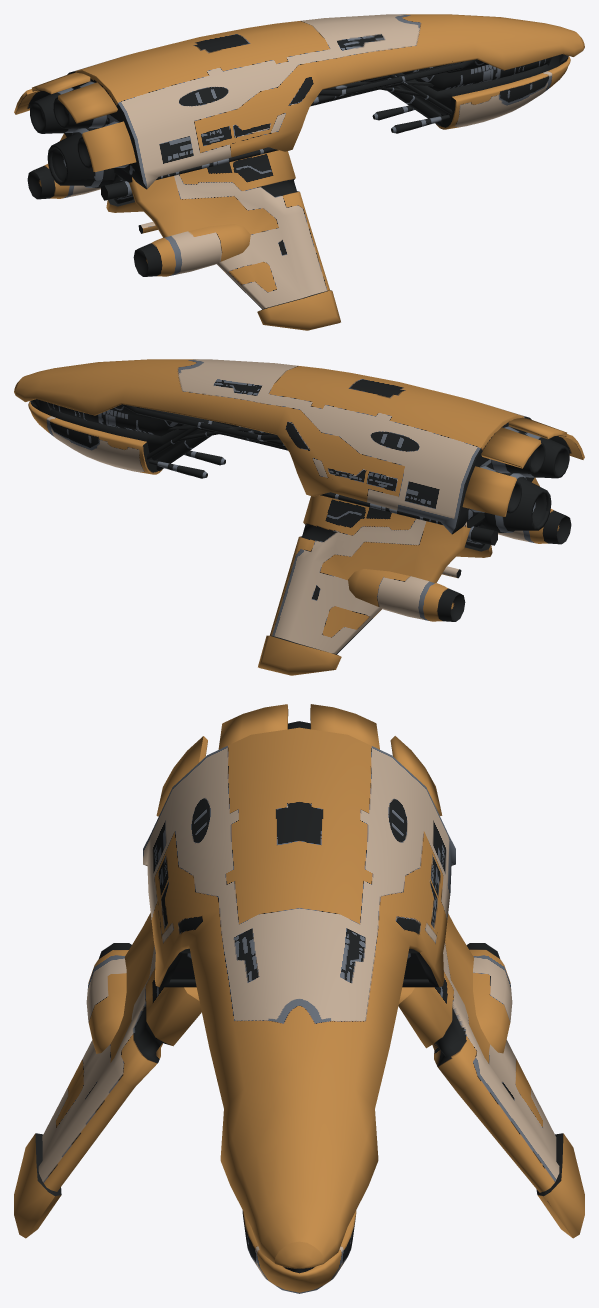
Rendered from punisher.glb.
The picture shows the model from 3 angles, top to bottom: view 1: azimuth 30°, elevation 25°; view 2: azimuth 150°, elevation 25°; view 3: azimuth 270°, elevation 25°; orthographic projection. The views are drawn at different scales.
Visible parts, largest first — view 1: Punisher; view 2: Punisher; view 3: Punisher.
Boxes of the visible parts, bbox=[...] form: Punisher: bbox=[14, 14, 584, 330]; Punisher: bbox=[14, 359, 584, 675]; Punisher: bbox=[14, 704, 584, 1293].
Bounding box in the file's own units: 65.51 × 27.41 × 36.6.
Materials: 1 (1 with a texture image).
